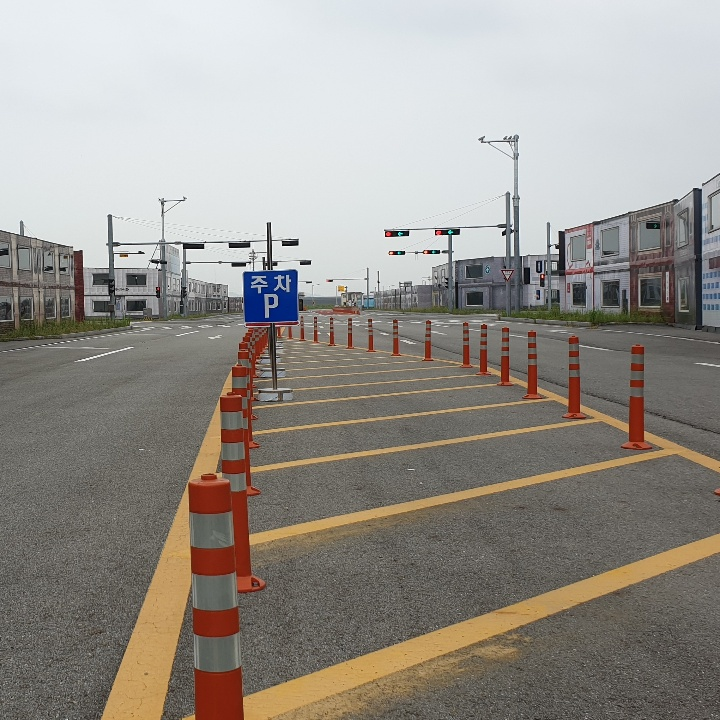parking: (258, 287, 284, 323)
